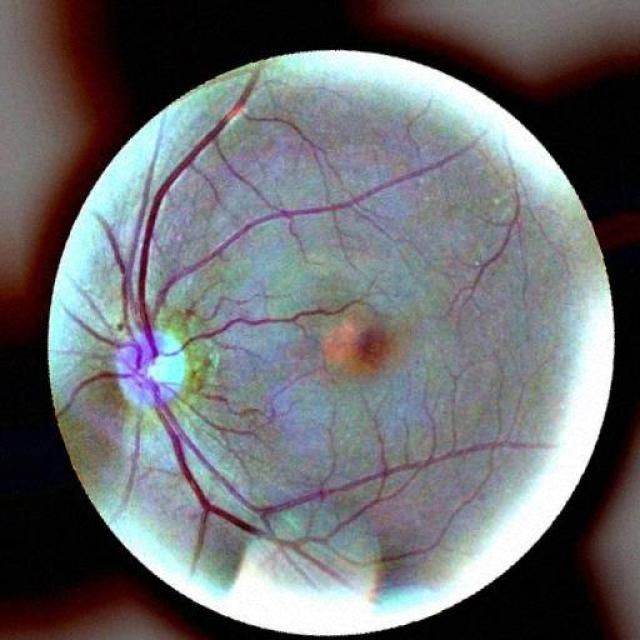Macula: (321, 316, 391, 372)
Nerves: (62, 70, 339, 561), (154, 181, 386, 310), (180, 368, 250, 432), (122, 418, 140, 501)
Optic Disk: (115, 331, 186, 404)
